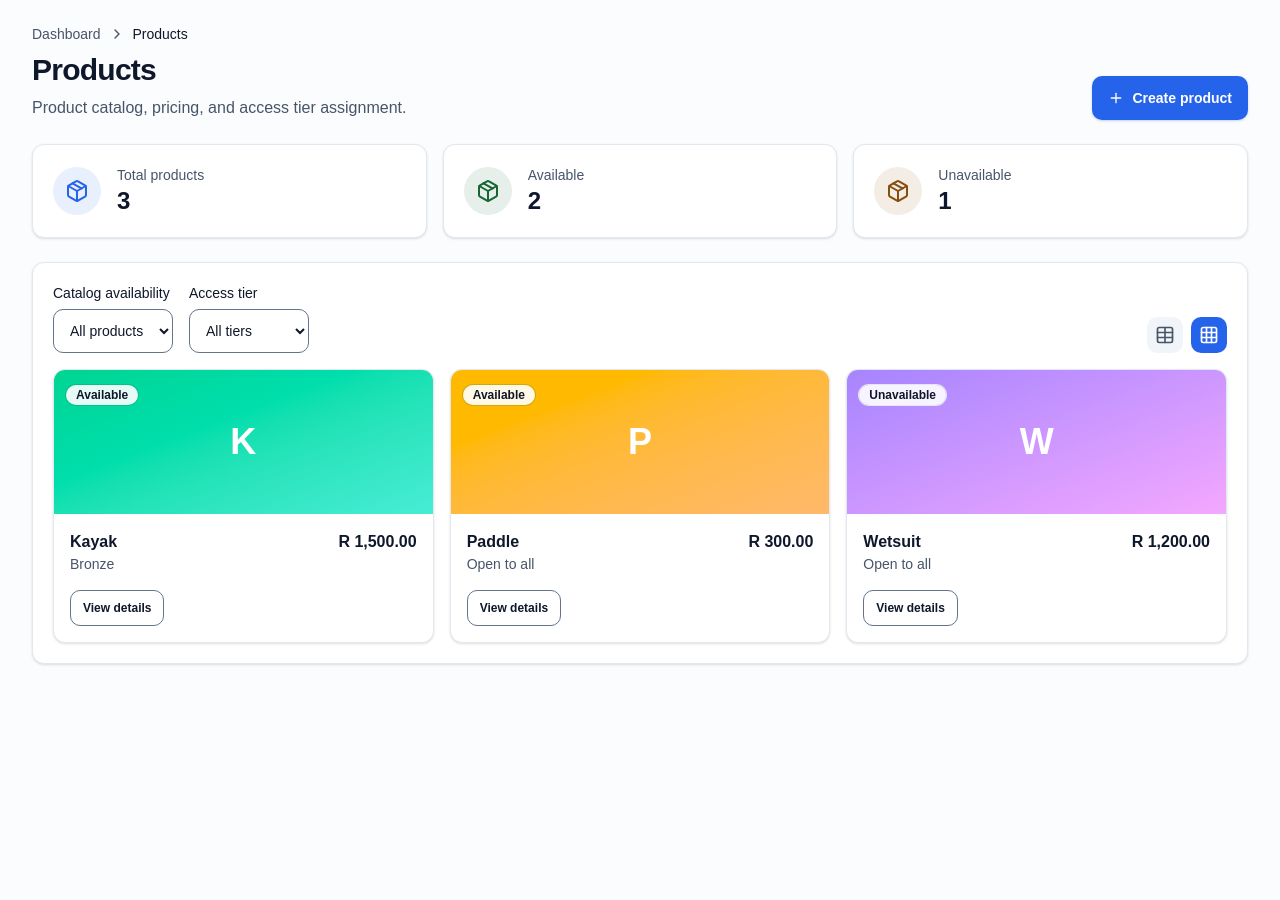
Test case: ProductsCatalog › switches to table view
Step 1. Click the button named "Table view" → (1165, 335), box [1147,317,1183,353]
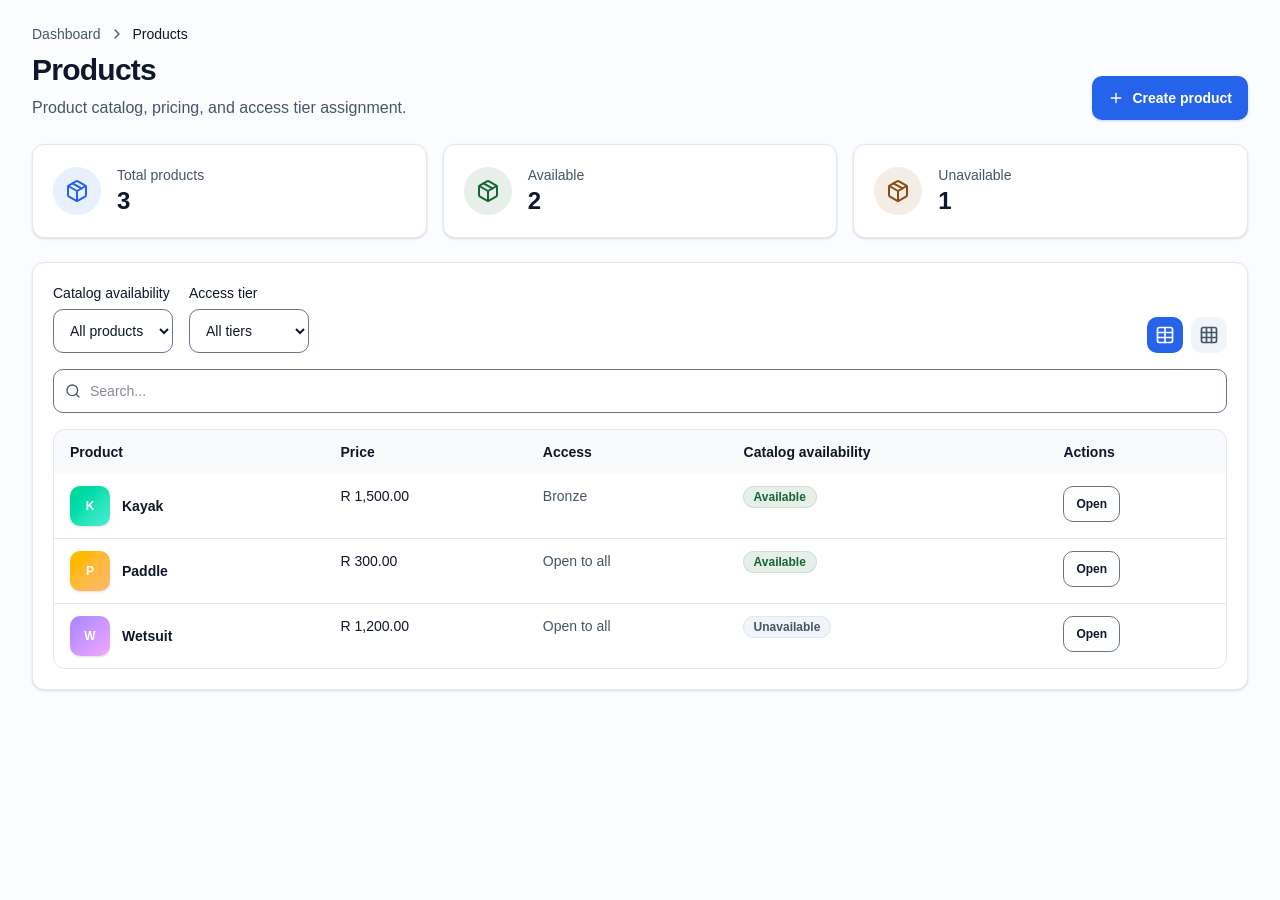
Expected: the text "Kayak" is shown, [122,496,163,516]
Expected: the table is shown, [54,430,1226,668]
